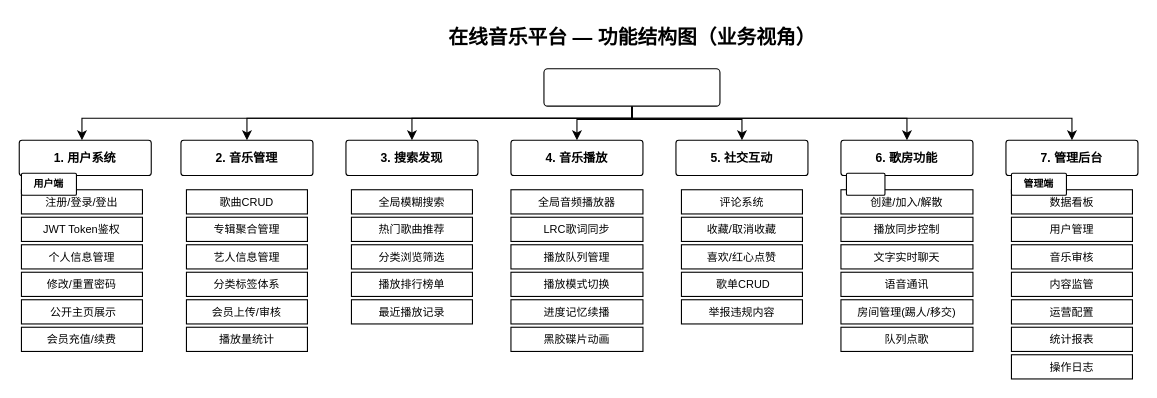
The diagram is 1157 pixels wide and 398 high, and some of its shapes have lost their labels. Each missing label, with the centre of its shape:
"VIP" belongs at point (865, 183).
"在线音乐平台" belongs at point (631, 87).
